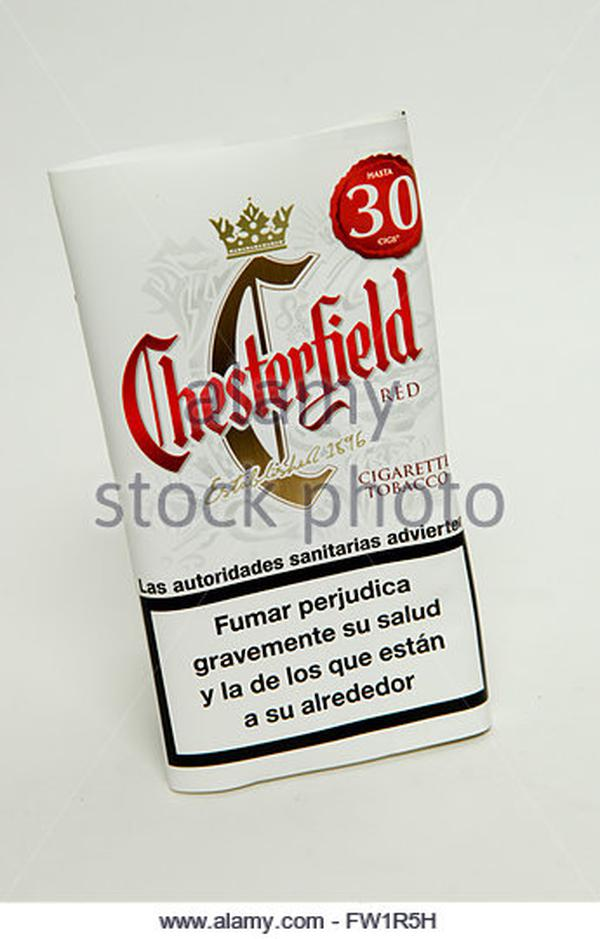chesterfield_red: (116, 155, 429, 702)
